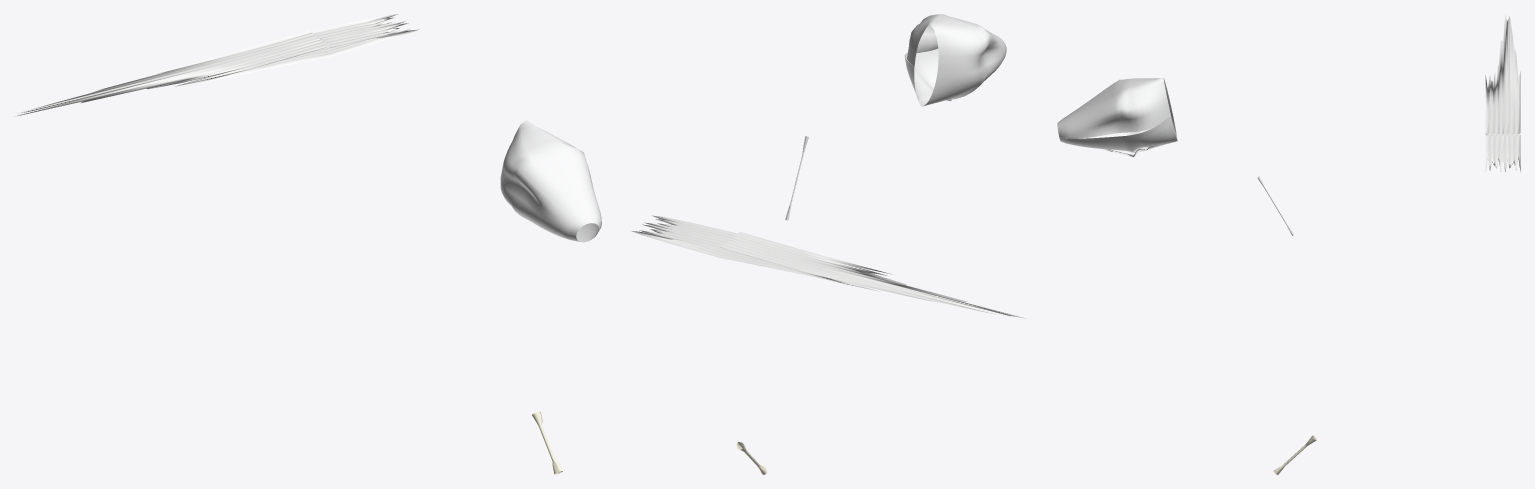
File: skeletal.glb
3 renders of one model, left to right at view 1: azimuth 30°, elevation 25°; view 2: azimuth 150°, elevation 25°; view 3: azimuth 270°, elevation 25°, orthographic. The views are drawn at different scales.
Visible parts, largest first — view 1: Mesh_Feline_Cranium, Mesh_Feline_ColumnaVertebralis; view 2: Mesh_Feline_ColumnaVertebralis, Mesh_Feline_Cranium; view 3: Mesh_Feline_Cranium, Mesh_Feline_ColumnaVertebralis.
Part boxes in pixels (x1,y1,x2,y2): Mesh_Feline_Cranium: [500, 120, 601, 242]; Mesh_Feline_ColumnaVertebralis: [16, 14, 419, 116]; Mesh_Feline_ColumnaVertebralis: [631, 215, 1025, 319]; Mesh_Feline_Cranium: [904, 14, 1006, 106]; Mesh_Feline_Cranium: [1057, 77, 1177, 156]; Mesh_Feline_ColumnaVertebralis: [1485, 15, 1520, 172].
Size of the model in its own units: 0.6071 by 0.6063 by 0.7134.
